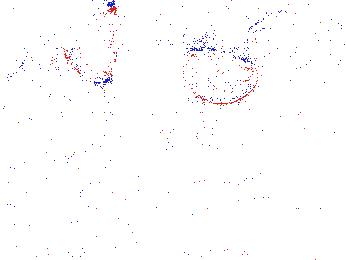moon jellyfish: (24, 1, 101, 64), (181, 48, 260, 105), (63, 4, 119, 84), (246, 10, 346, 46)
